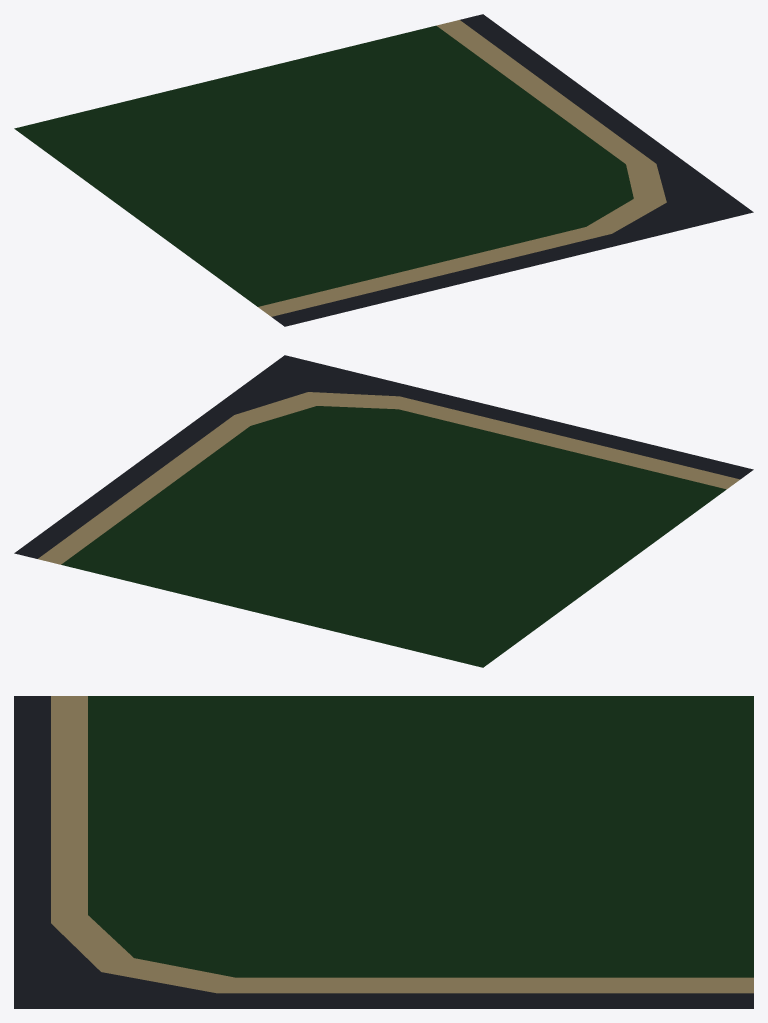
Rendered from terrain_plains_corner_outer3.fbx.
3 renders of one model, top to bottom at view 1: azimuth 30°, elevation 25°; view 2: azimuth 150°, elevation 25°; view 3: azimuth 270°, elevation 25°, orthographic. The views are drawn at different scales.
Visible parts, largest first — view 1: terrain_plains_corner_outer3; view 2: terrain_plains_corner_outer3; view 3: terrain_plains_corner_outer3.
Part boxes in pixels (bbox=[...]): terrain_plains_corner_outer3: bbox=[14, 14, 753, 326]; terrain_plains_corner_outer3: bbox=[14, 355, 753, 667]; terrain_plains_corner_outer3: bbox=[14, 696, 753, 1008].
Size of the model in its own units: 10 by 0 by 10.
